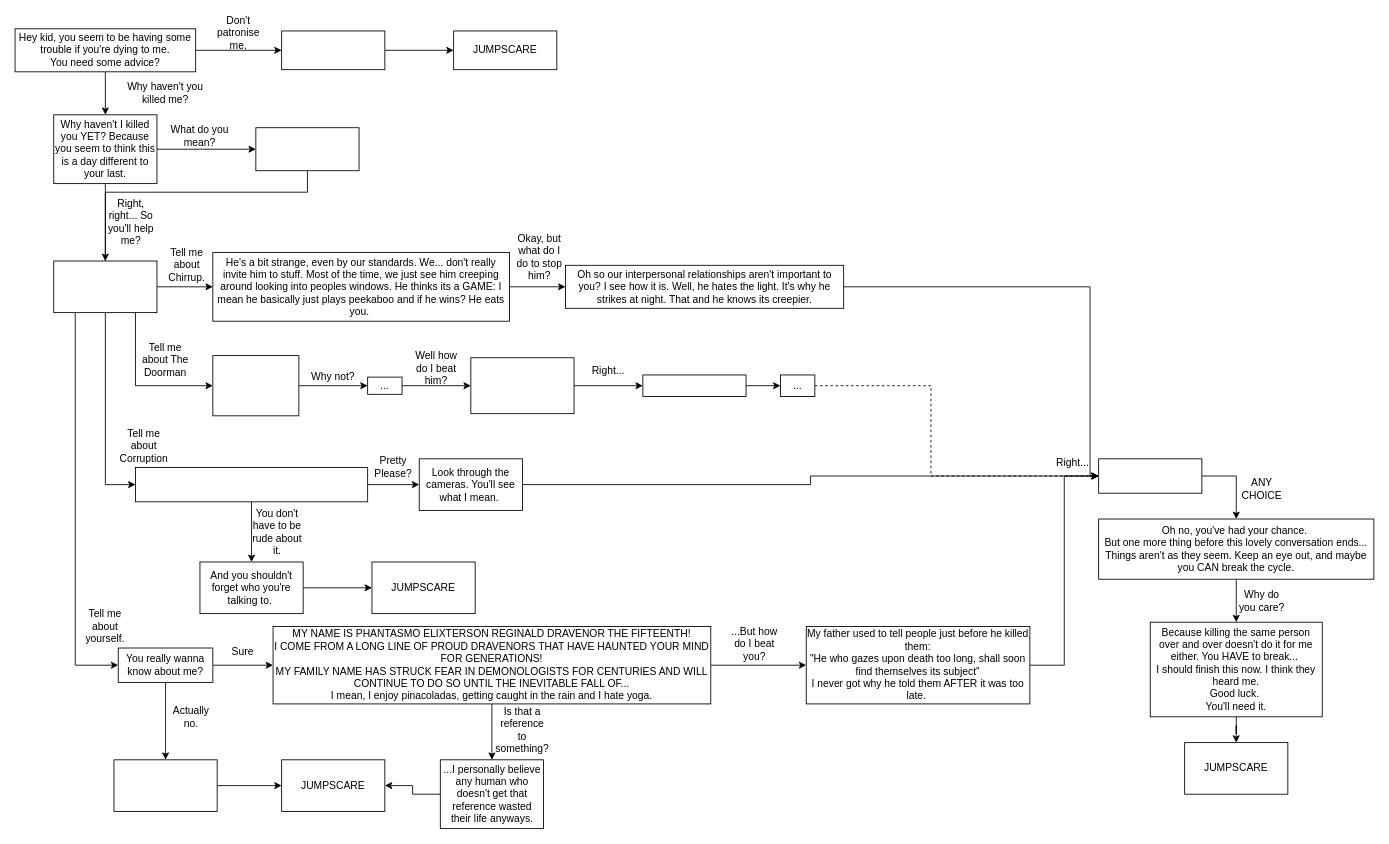
This 1389x844 diagram has some shape labels left out. The centre of each missing label's shape, as x and y in pixels:
"... After three knocks, the wardrobe." belongs at (x=522, y=385).
"And now you've pissed me off." belongs at (x=165, y=785).
"Haha, if you've still not figured that out, you've got no chance." belongs at (x=251, y=484).
"If I say anymore, It'll break your brain. Best not to think about it." belongs at (x=307, y=149).
"Just trying to help. Be careful who you piss off." belongs at (x=333, y=50).
"LOOKS AROUND" belongs at (x=694, y=385).
"SHOW REMAINING OPTIONS" belongs at (x=1150, y=475).
"The Doorman? I can't really say much about him." belongs at (x=255, y=385).
"Yes, but JUST THIS ONCE. Anymore, and I would get into trouble." belongs at (x=105, y=286).
